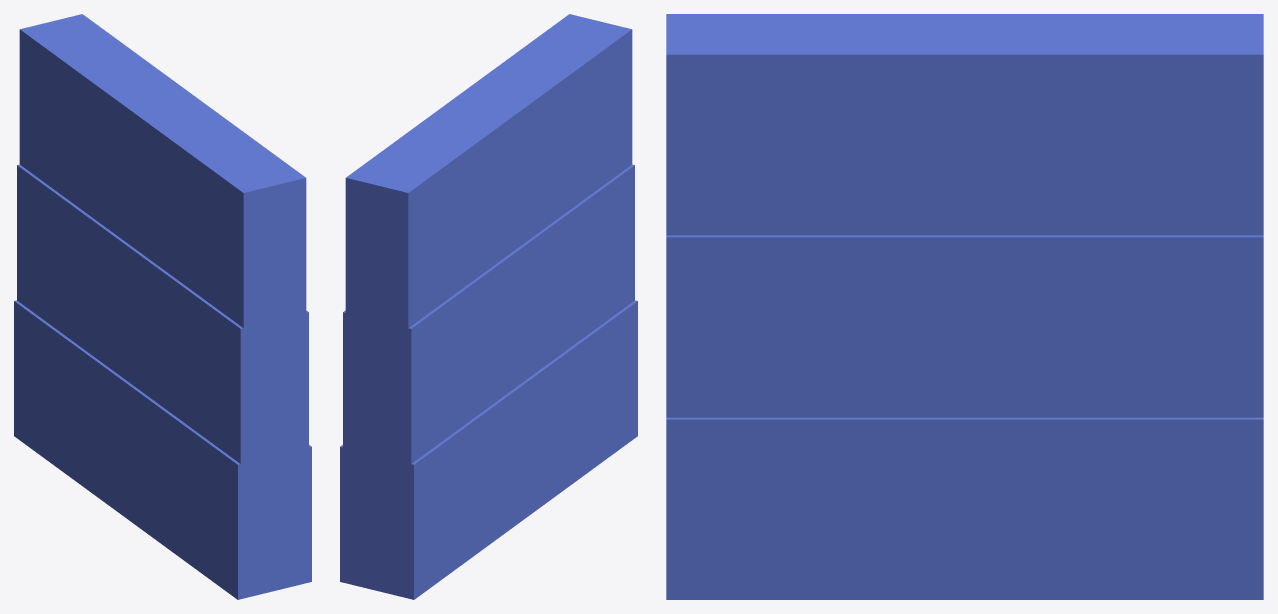
The model's file is Wall_Style_2.fbx.
3 views of the same model, side by side, from view 1: azimuth 30°, elevation 25°; view 2: azimuth 150°, elevation 25°; view 3: azimuth 270°, elevation 25° (orthographic). The views are drawn at different scales.
Visible parts, largest first — view 1: Wall Style 2; view 2: Wall Style 2; view 3: Wall Style 2.
Part boxes in pixels (x1,y1,x2,y2): Wall Style 2: (14, 14, 311, 599); Wall Style 2: (340, 14, 637, 599); Wall Style 2: (666, 14, 1263, 599).
Size of the model in its own units: 19.11 by 100 by 100.
